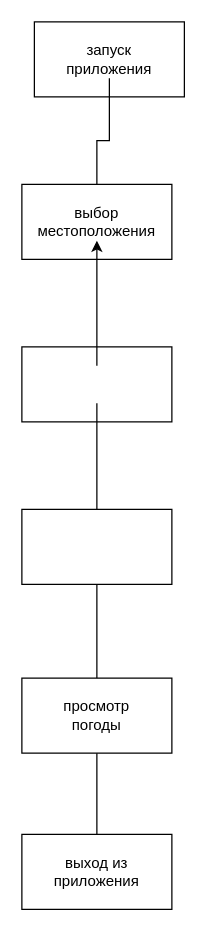
Some shapes in this 206 by 931 pixel diagram are drawn without their labels. Each missing label, with the centre of its shape:
"Отображение информации" belongs at [96,546].
"Получение данных о погоде" belongs at [96,384].
